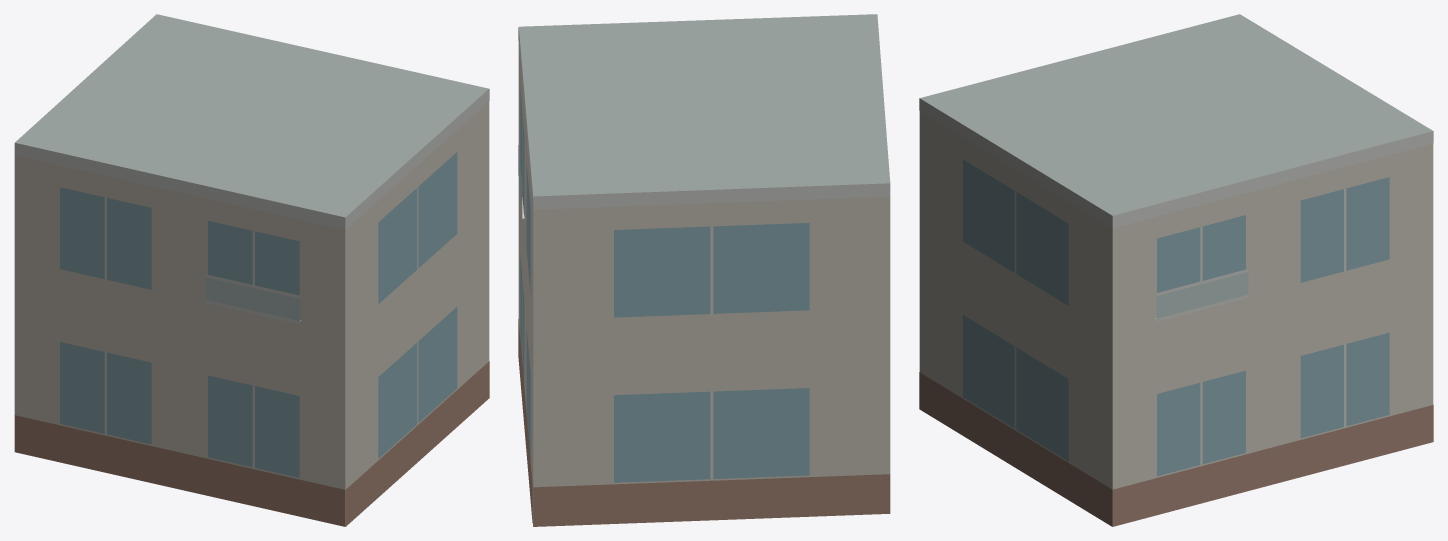
The model's file is survey-upis-32616672.glb.
3 views of the same model, side by side, from view 1: azimuth 30°, elevation 25°; view 2: azimuth 150°, elevation 25°; view 3: azimuth 270°, elevation 25° (orthographic). The views are drawn at different scales.
Visible parts, largest first — view 1: survey-upis-32616672.tmp; view 2: survey-upis-32616672.tmp; view 3: survey-upis-32616672.tmp.
Boxes of the visible parts, x1=… form: survey-upis-32616672.tmp: x1=14, y1=14, x2=489, y2=526; survey-upis-32616672.tmp: x1=518, y1=14, x2=890, y2=526; survey-upis-32616672.tmp: x1=919, y1=14, x2=1433, y2=526.
Size of the model in its own units: 8.5 by 6.1 by 9.14.
